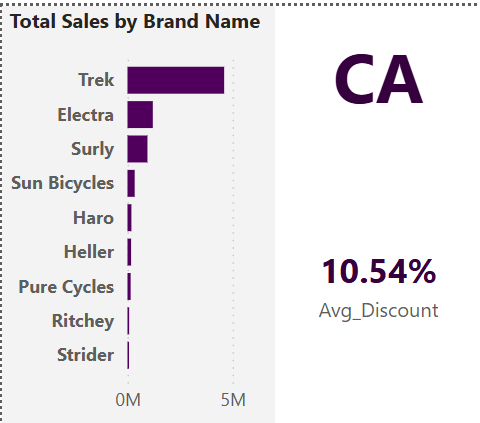

The page's visual inventory and layout, read from the dashboard file:
{"tool":"powerbi","page":{"name":"State Tooltip","canvas":[320,280],"ordinal":2},"visuals":[{"type":"clusteredBarChart","title":"Total Sales by Brand Name","fields":{"Y":["_Measure.T_Sales"],"Category":["Product.brand_name"]},"box":[0,0,181.8,280],"z":0},{"type":"cardVisual","fields":{"Data":["Min(Customers.state2)"]},"box":[181.8,0,138.2,90],"z":1000},{"type":"cardVisual","fields":{"Data":["_Measure.Avg_Discount"]},"box":[181.8,90,138.2,190],"z":2000}]}

Visuals, with their boxes in screenshot pixels (x1, y1, x2, y2), scaled from the page's 320x280 canvas onto the 480x423 screenshot:
"Total Sales by Brand Name" clusteredBarChart: bbox(0, 0, 273, 422)
cardVisual - Min(Customers.state2): bbox(273, 0, 479, 136)
cardVisual - _Measure.Avg_Discount: bbox(273, 136, 479, 422)
